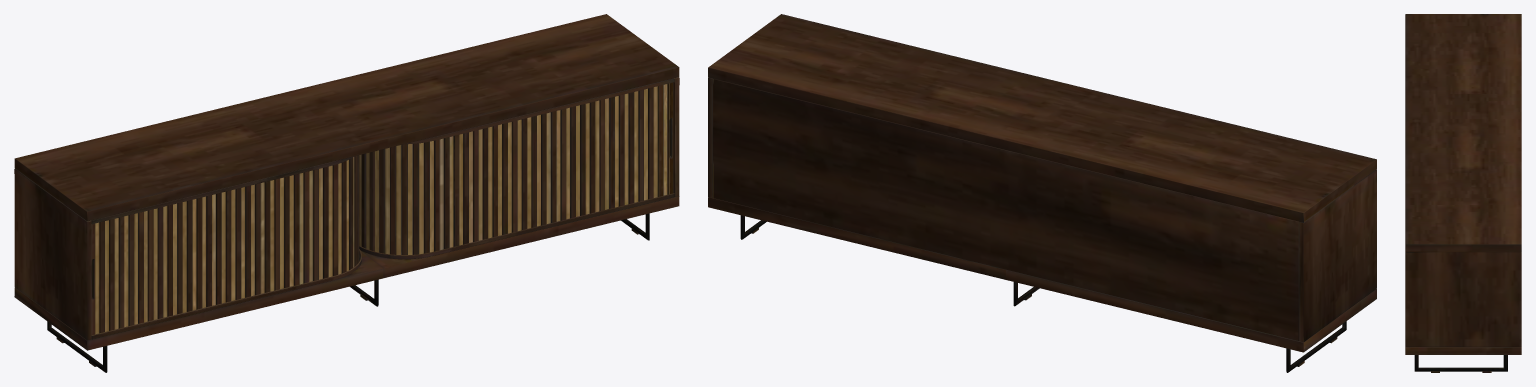
File: modern_wooden_cabinet.glb
3 views of the same model, side by side, from view 1: azimuth 30°, elevation 25°; view 2: azimuth 150°, elevation 25°; view 3: azimuth 270°, elevation 25° (orthographic). The views are drawn at different scales.
Visible parts, largest first — view 1: modern_wooden_cabinet_body, modern_wooden_cabinet_door_r, modern_wooden_cabinet_door_l; view 2: modern_wooden_cabinet_body; view 3: modern_wooden_cabinet_body.
Part boxes in pixels (bbox=[...]): modern_wooden_cabinet_body: bbox=[14, 14, 679, 372]; modern_wooden_cabinet_door_r: bbox=[359, 82, 673, 254]; modern_wooden_cabinet_door_l: bbox=[91, 155, 359, 334]; modern_wooden_cabinet_body: bbox=[708, 14, 1376, 372]; modern_wooden_cabinet_body: bbox=[1405, 14, 1521, 372].
Bounding box in the file's own units: 2.44 × 0.6801 × 0.5201.
Materials: 1 (1 with a texture image).
